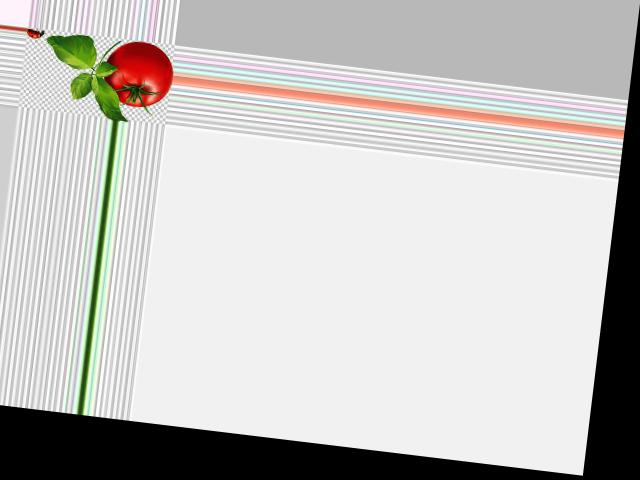tomato: (101, 37, 176, 110)
